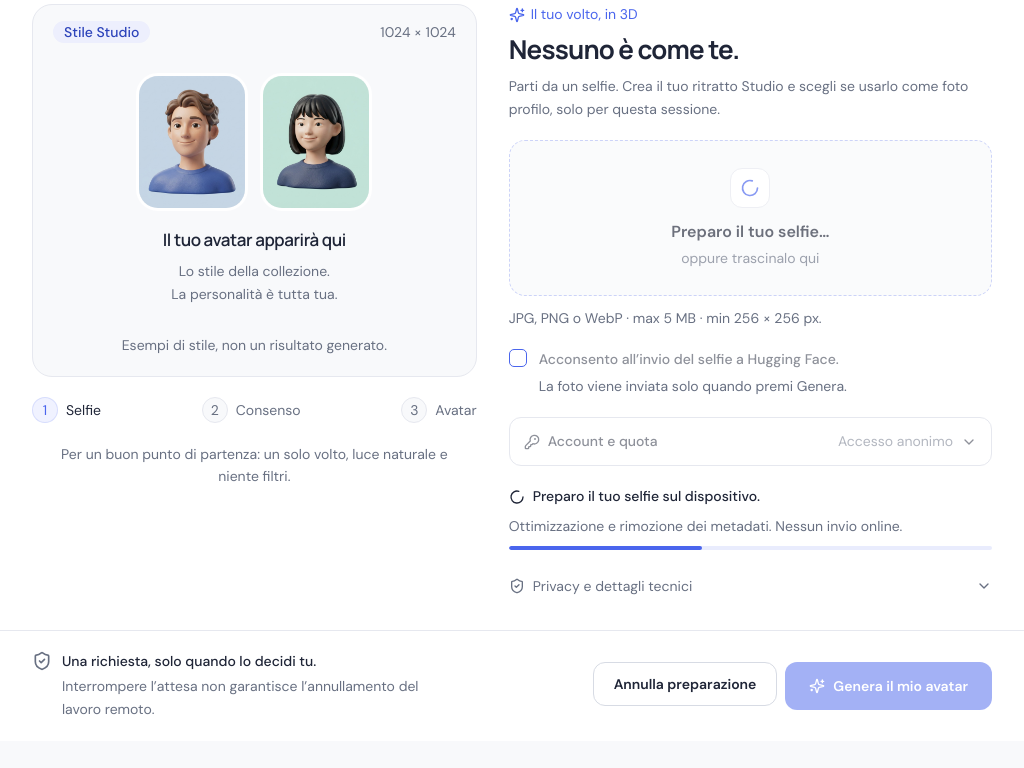
it: ZeroGPU selfie-to-avatar flow › prevents parallel preparation and discards late completion after cancellation
Earlier steps of the test are not shown.
Expected: the element named "Carica un selfie per creare il tuo avatar AI" is disabled, [509, 140, 992, 329]
Step 1. Click the button "Annulla preparazione" → (685, 684), box [593, 662, 777, 706]
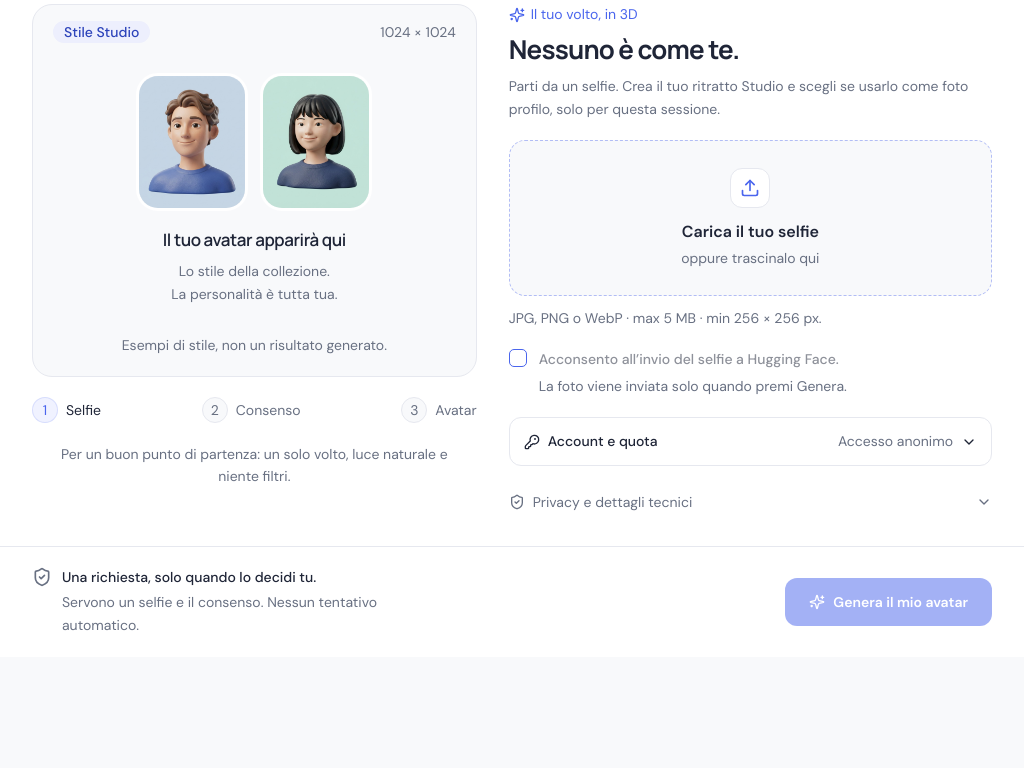
Now the button "Carica il tuo selfie oppure trascinalo qui" is enabled, box [509, 140, 992, 296]
